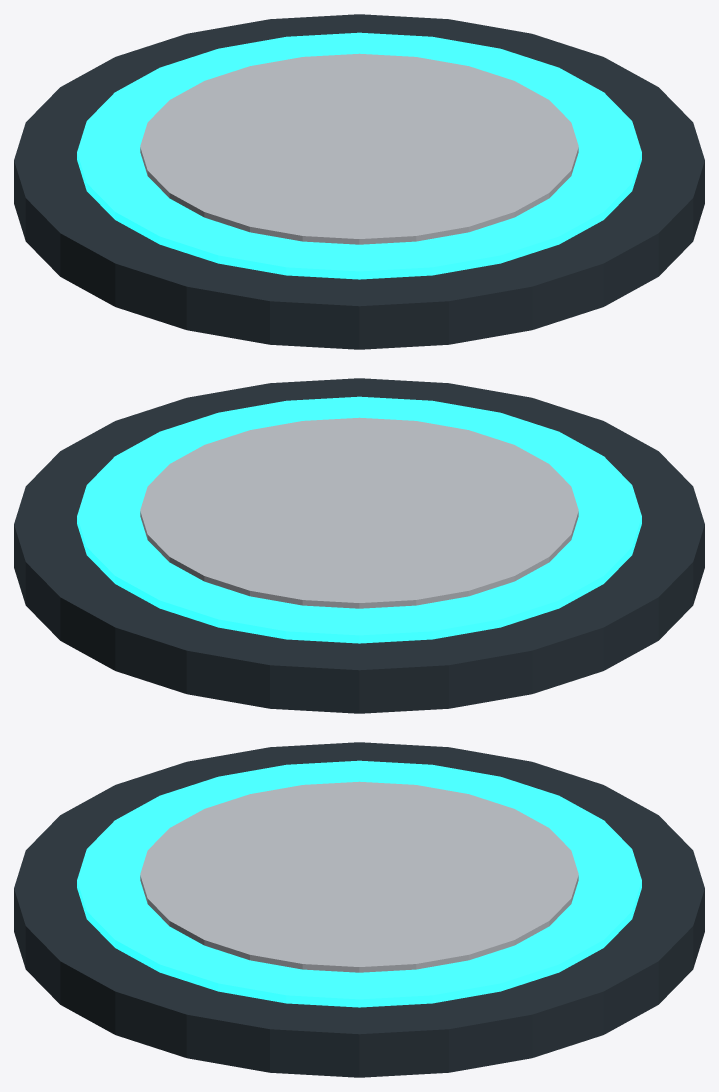
Rendered from pickup_pad.glb.
The picture shows the model from 3 angles, top to bottom: view 1: azimuth 30°, elevation 25°; view 2: azimuth 150°, elevation 25°; view 3: azimuth 270°, elevation 25°; orthographic projection.
Visible parts, largest first — view 1: harbor_pickup_pad; view 2: harbor_pickup_pad; view 3: harbor_pickup_pad.
Part boxes in pixels (box(x1,y1,x2,y2)): harbor_pickup_pad: box(14, 14, 704, 349); harbor_pickup_pad: box(14, 378, 704, 713); harbor_pickup_pad: box(14, 742, 704, 1077).
Size of the model in its own units: 2.3 by 0.2105 by 2.3.
